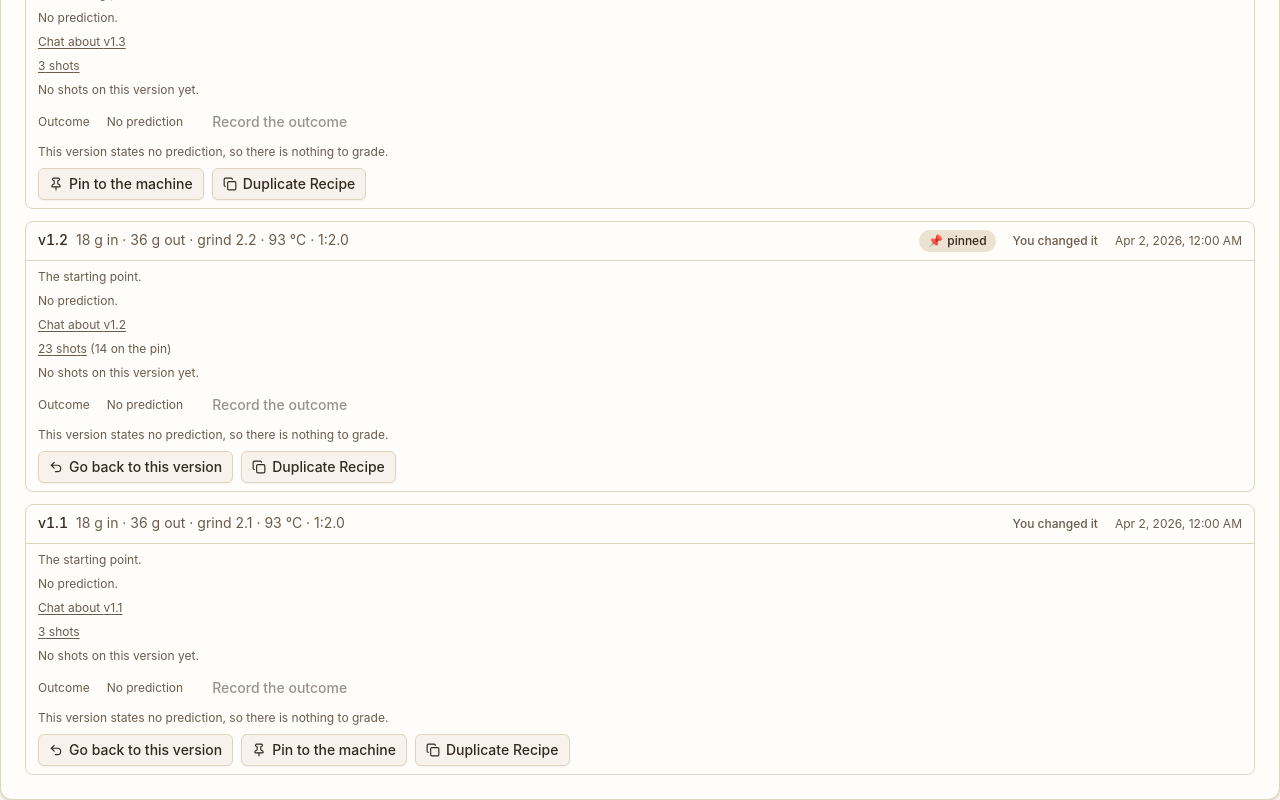
Scenario: the pin dialog › keeps Pin off while the name is still the taken one, however it is spelled
(page scrolled)
Click the button "Pin to the machine" below "18 g in · 36 g out · grind 2.1 · 93 °C" at (324, 750), box [241, 734, 407, 766]
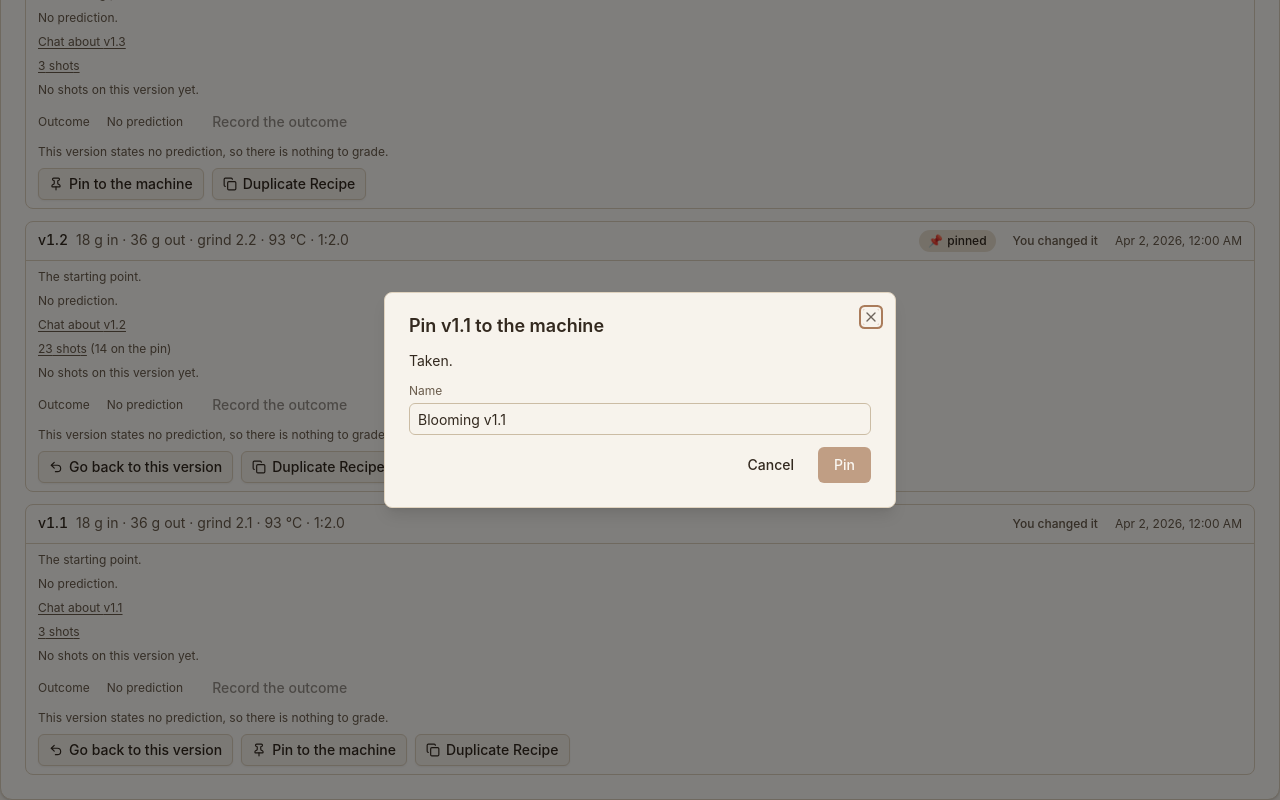
Expected: the button "Pin" is disabled, [818, 447, 871, 483]
Replace the text in the field labelled "Name" with "  BLOOMING V1.1 " at (640, 419), box [409, 403, 871, 435]
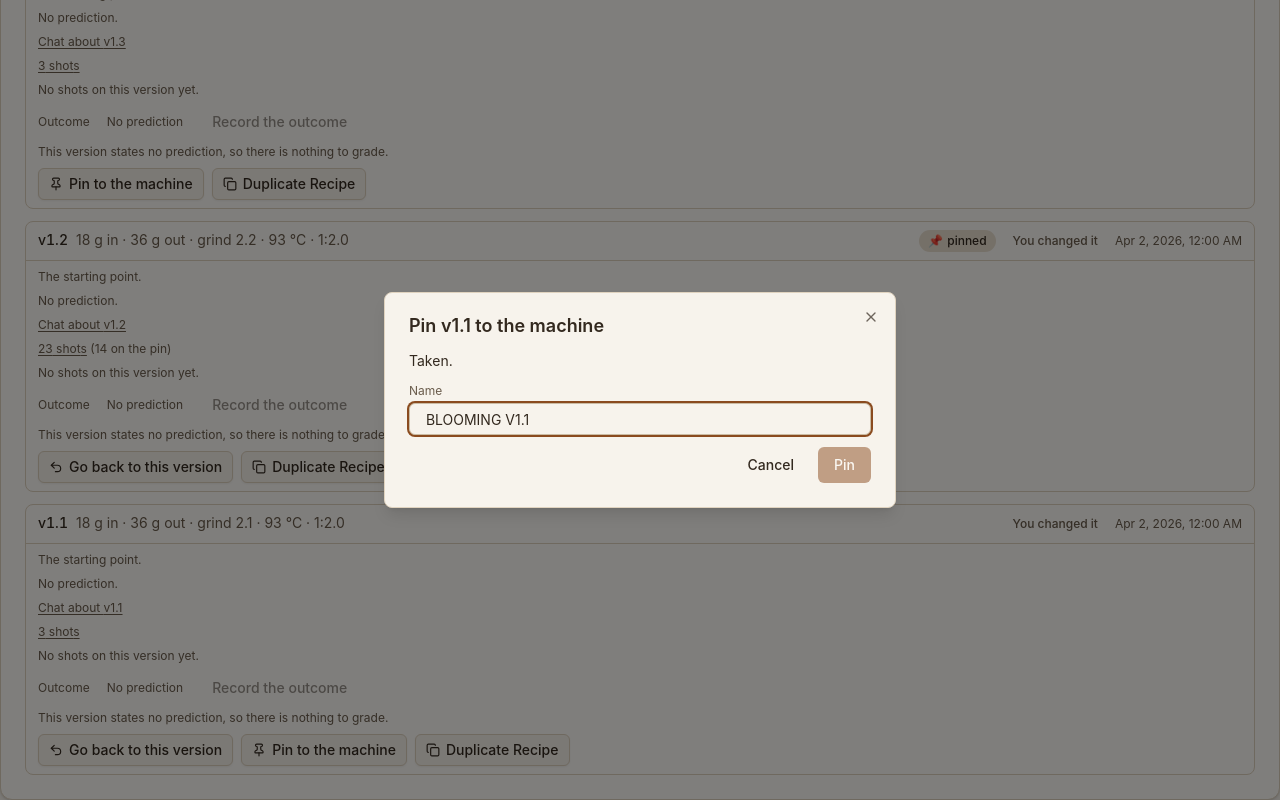
Expected: the button "Pin" is disabled, [818, 447, 871, 483]
Type "2" into the field labelled "Name" at (640, 419), box [409, 403, 871, 435]
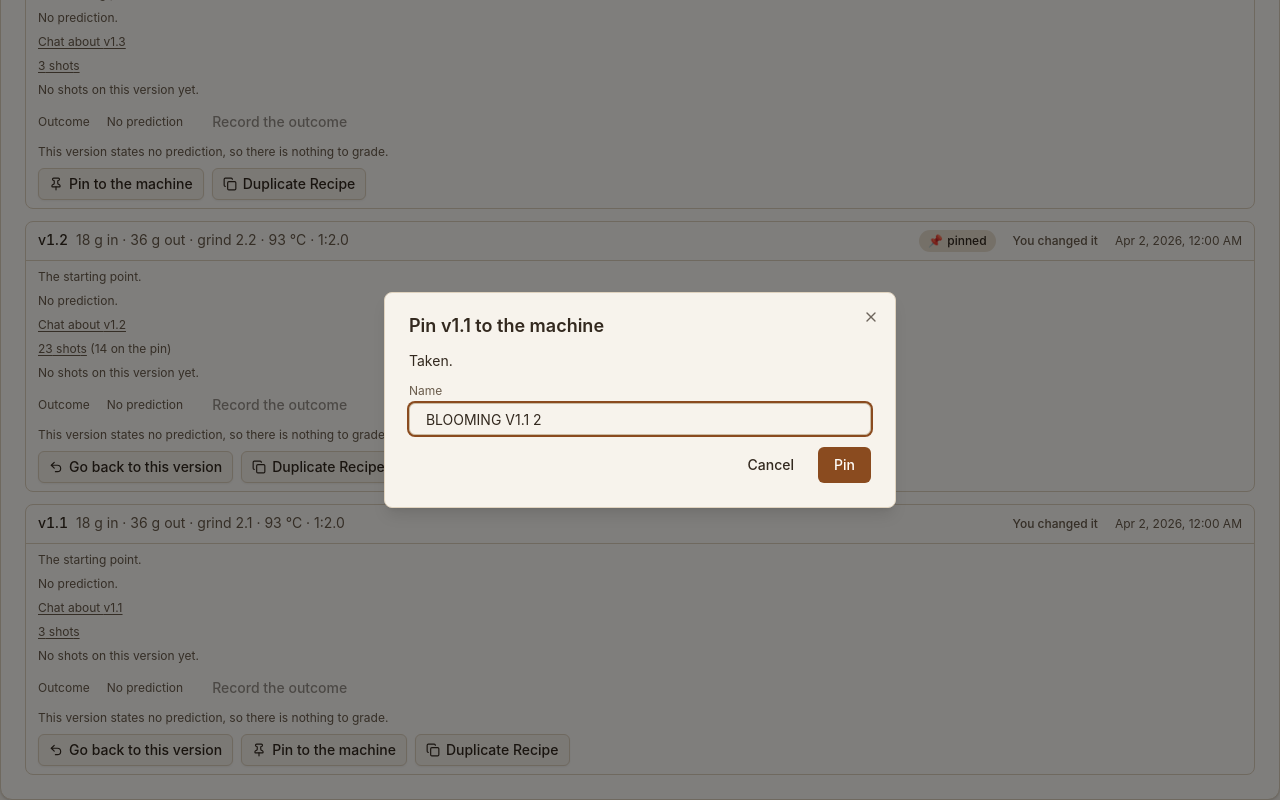
Expected: the button "Pin" is enabled, [818, 447, 871, 483]
